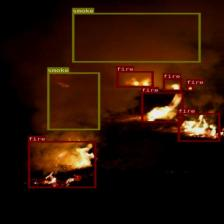fire: (28, 141, 96, 188), (141, 92, 183, 122), (177, 113, 220, 141), (116, 71, 153, 88), (162, 78, 182, 91), (186, 84, 193, 91)
smoke: (72, 13, 200, 62), (47, 72, 100, 130)
